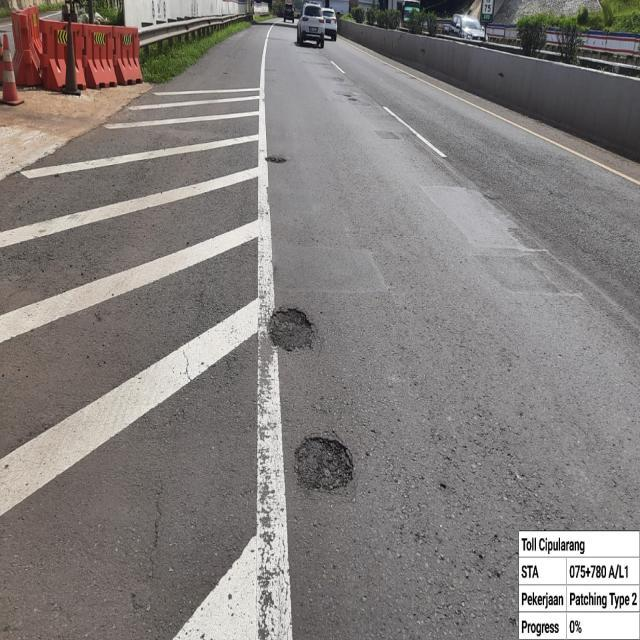Buraco: (291, 434, 357, 494), (265, 306, 317, 354), (264, 155, 288, 165), (346, 96, 360, 102), (341, 93, 354, 98)
